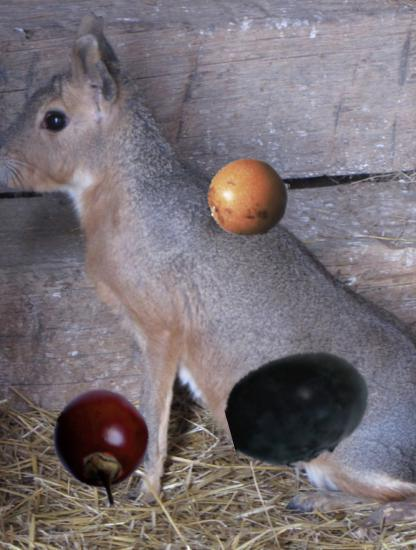Blueberry: (227, 337, 372, 482)
Granadilla: (208, 156, 293, 241)
Tamarillo: (46, 388, 153, 495)
